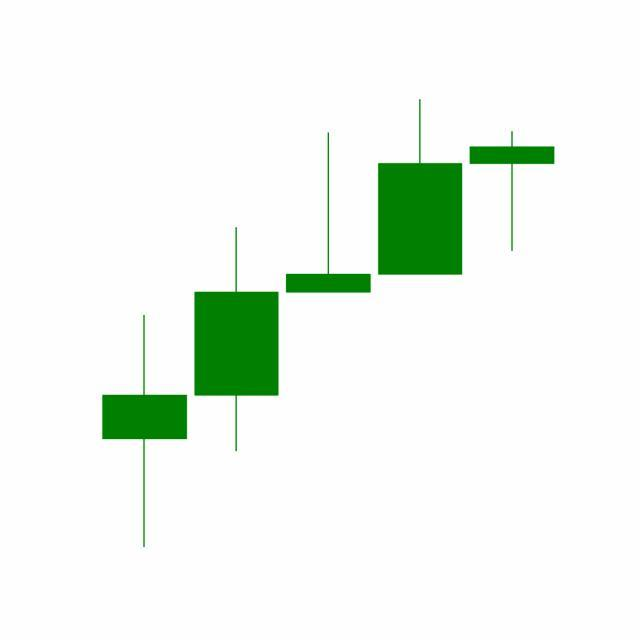Dragonfly Doji: (466, 130, 559, 253)
